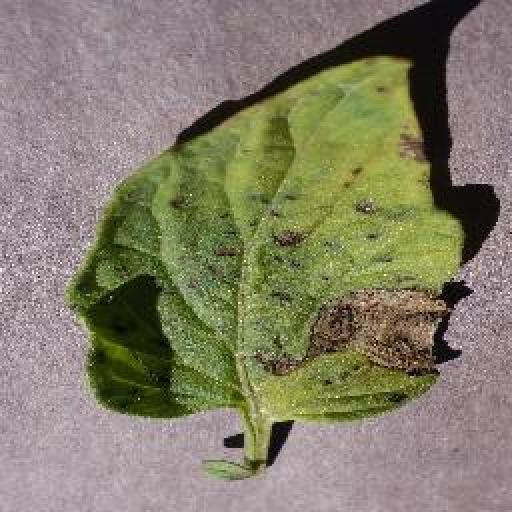Early Blight: (70, 52, 461, 420)
